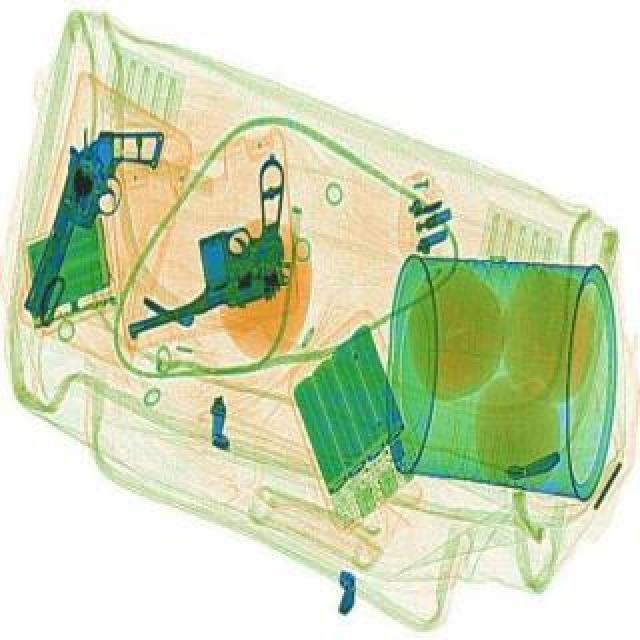gun: (84, 152, 324, 336), (24, 112, 166, 332)
